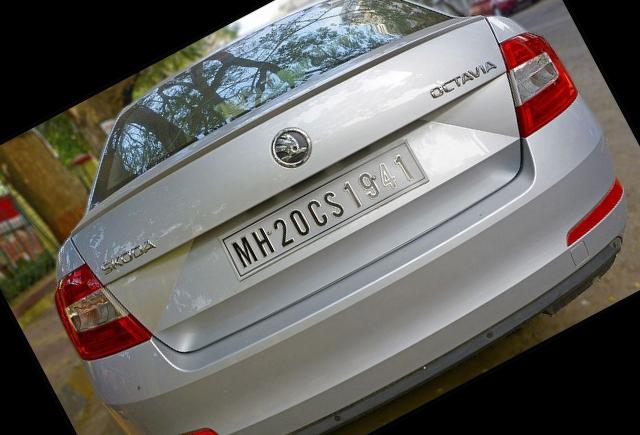plate: (212, 134, 433, 285)
